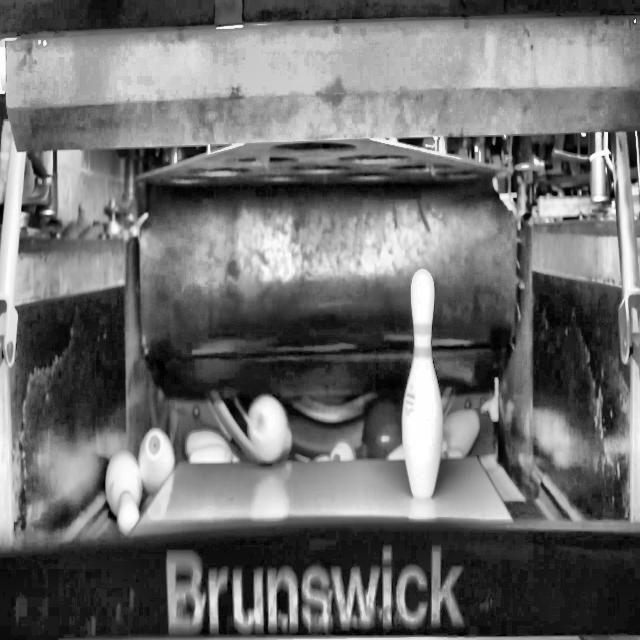bowling-pins: (402, 268, 444, 499)
sweep board: (0, 526, 640, 638)
